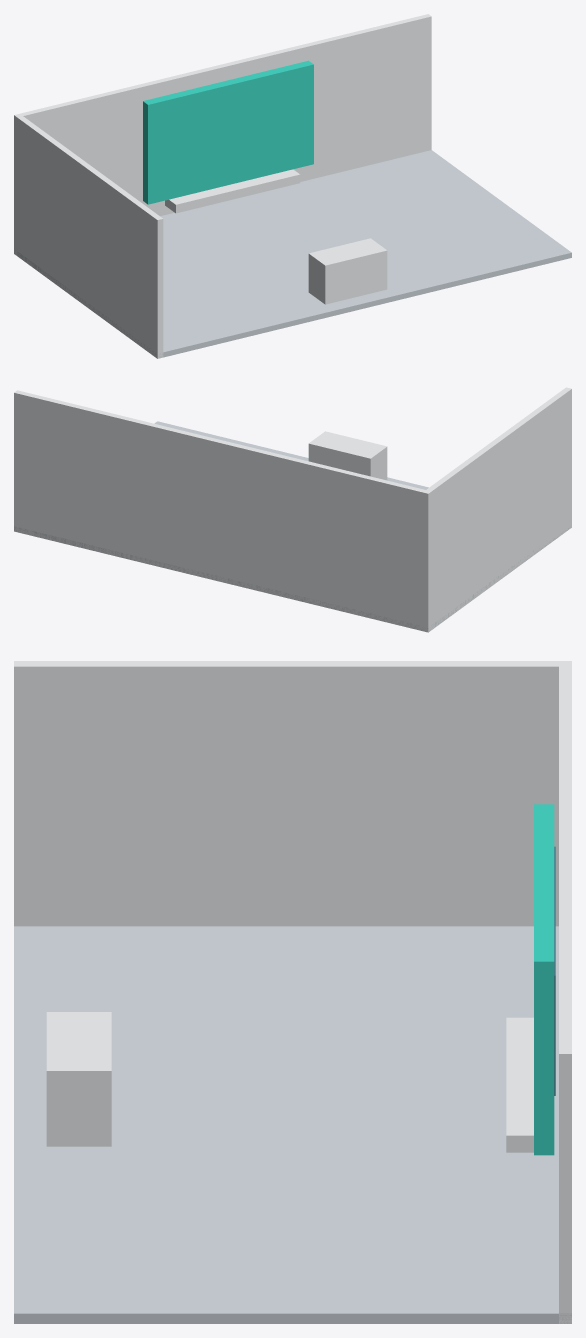
The picture shows the model from 3 angles, top to bottom: view 1: azimuth 30°, elevation 25°; view 2: azimuth 150°, elevation 25°; view 3: azimuth 270°, elevation 25°; orthographic projection. The views are drawn at different scales.
Parts seen in each view (by area): view 1: Exhibition Booth Concept; view 2: Exhibition Booth Concept; view 3: Exhibition Booth Concept.
Boxes of the visible parts, x1=… form: Exhibition Booth Concept: x1=14, y1=14, x2=571, y2=358; Exhibition Booth Concept: x1=14, y1=387, x2=571, y2=632; Exhibition Booth Concept: x1=14, y1=661, x2=571, y2=1323.
Bounding box in the file's own units: 10 × 3.2 × 6.
